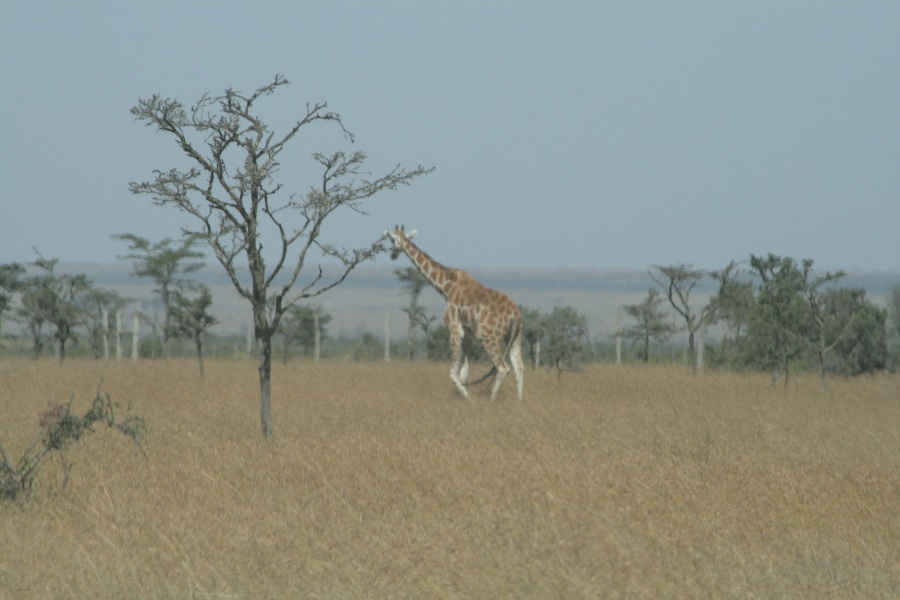giraffe: (378, 218, 536, 404)
